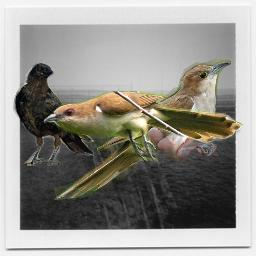Crow: (13, 62, 94, 166)
Cuckoo: (54, 59, 231, 200), (44, 91, 243, 161)
